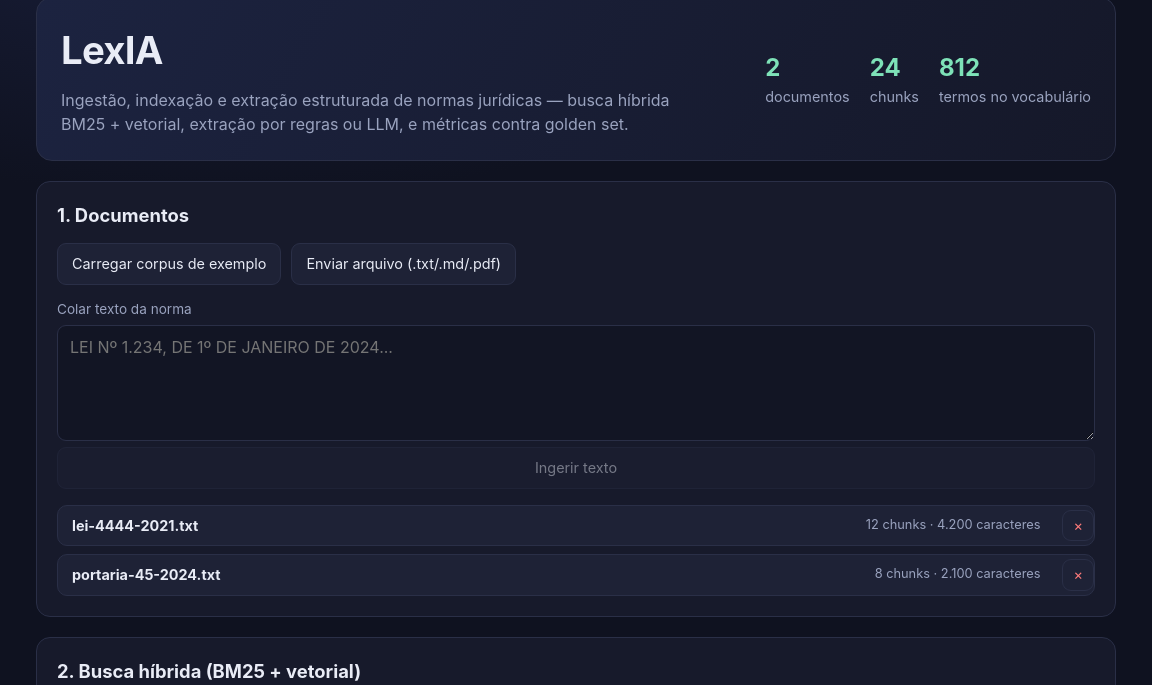
App › extrai campos estruturados do documento selecionado
Click the text "lei-4444-2021.txt". click: (135, 526)
box: [72,515,198,536]
(page scrolled)
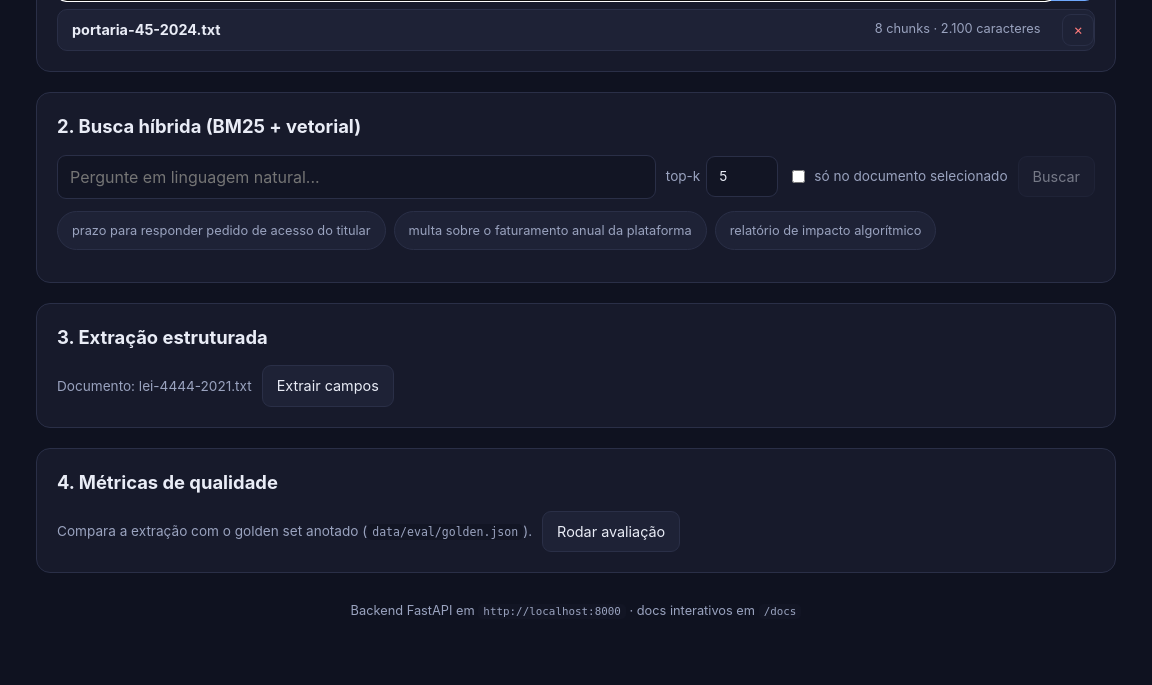
Click the button "Extrair campos". click: (328, 386)
box: [262,366,394,407]
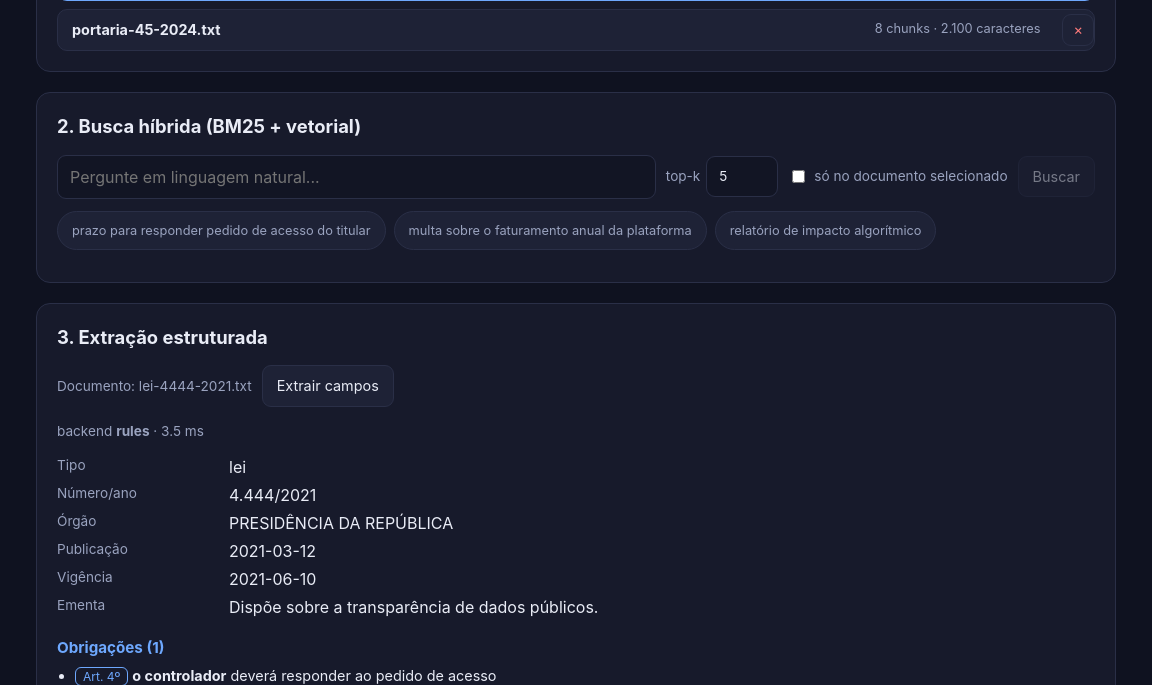
Expected: the text "4.444/2021" is shown, [229,485,316,505]
Expected: the text "2021-03-12" is shown, [229,541,316,561]
Expected: the heading "Obrigações (1)" is shown, [57,638,164,657]
